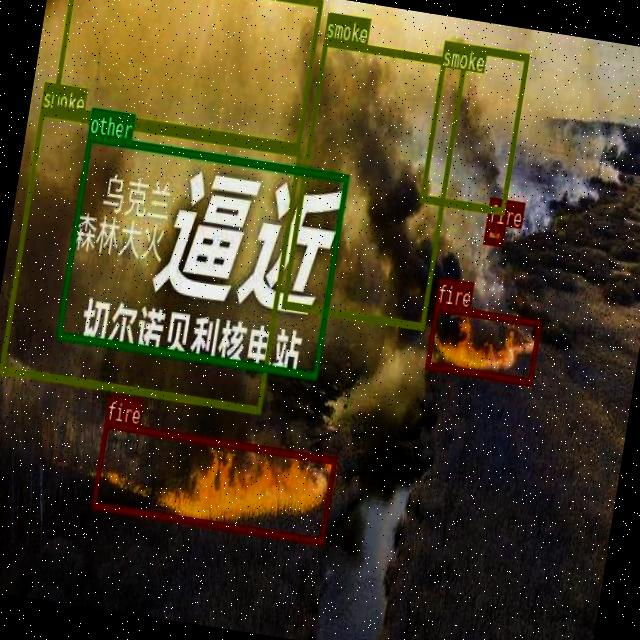fire: (90, 420, 338, 544), (424, 304, 542, 384), (483, 222, 504, 244)
smoke: (0, 106, 302, 412), (281, 38, 466, 328), (51, 0, 322, 150), (419, 39, 529, 214)
